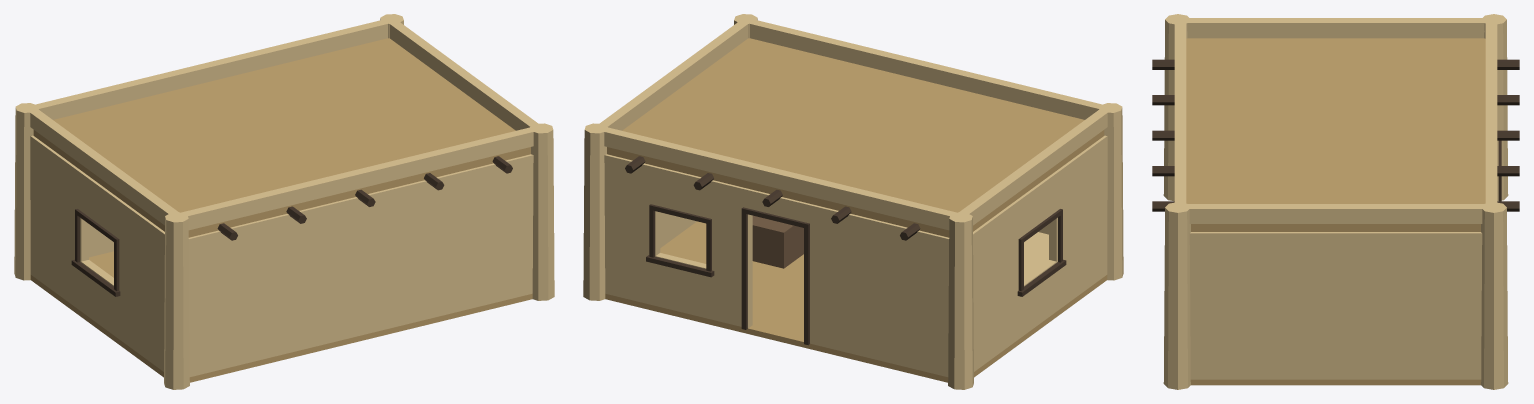
File: adobe_house.glb
3 renders of one model, left to right at view 1: azimuth 30°, elevation 25°; view 2: azimuth 150°, elevation 25°; view 3: azimuth 270°, elevation 25°, orthographic. The views are drawn at different scales.
Parts seen in each view (by area): view 1: adobe_house; view 2: adobe_house; view 3: adobe_house.
Boxes of the visible parts, x1,y1,x2,y2 form: adobe_house: (14, 14, 554, 389); adobe_house: (583, 14, 1123, 389); adobe_house: (1152, 14, 1519, 389).
Size of what is drawn, in the model's own units: 7.34 by 3.02 by 5.7.
Materials: 2 (2 with a texture image).
